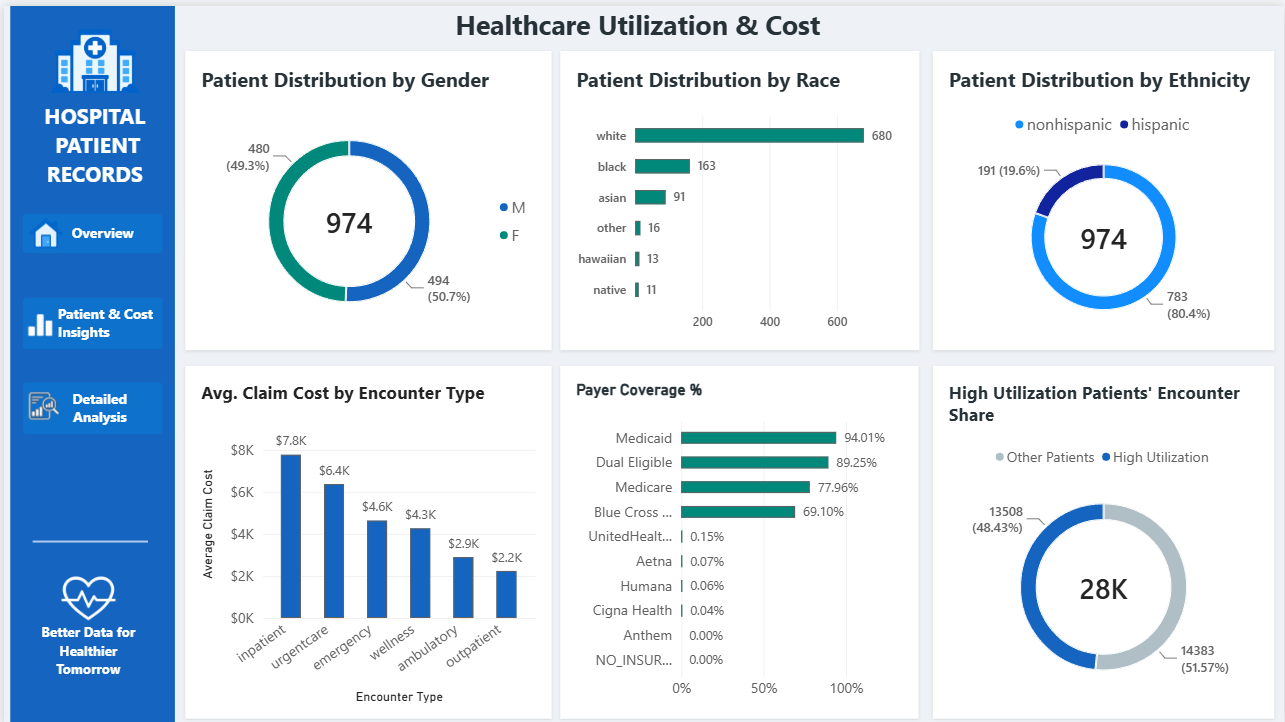

Layout of this report page (visuals, bound fields, positions):
{"tool":"powerbi","page":{"name":"Page 2","canvas":[1280,720],"ordinal":1},"visuals":[{"type":"clusteredBarChart","title":"Patient Distribution by Race","fields":{"Y":["CountNonNull(patients.Id)"],"Category":["patients.RACE"]},"box":[502.2,59,389.7,253.9],"z":0},{"type":"donutChart","title":"Patient Distribution by Gender","fields":{"Category":["patients_analysis.GENDER"],"Y":["CountNonNull(patients.Id)"]},"box":[135.8,59,366.4,253.9],"z":1000},{"type":"clusteredColumnChart","title":"Avg. Claim Cost by Encounter Type","fields":{"Y":["Avg(encounters.TOTAL_CLAIM_COST)"],"Category":["encounters.ENCOUNTERCLASS"]},"box":[135.8,312.9,325.2,323.8],"z":2000},{"type":"clusteredColumnChart","title":"Payer Coverage %","fields":{"Y":["Avg(payer_analysis.Payer_Coverage_Percentage)"],"Category":["payer_analysis.Payer Name"]},"box":[461.1,312.9,392.5,323.8],"z":3000},{"type":"donutChart","title":"High Utilization Patients'' Encounter Share","fields":{"Category":["high_utilization_analysis.Patient_Group"],"Y":["Sum(high_utilization_analysis.Number_of_Encounters)"]},"box":[853.5,312.9,404.8,323.8],"z":5000},{"type":"textbox","box":[377.4,0,369.1,45.3],"z":6000},{"type":"donutChart","title":"Patient Distribution by Ethnicity","fields":{"Y":["CountNonNull(patients.Id)"],"Category":["patients.ETHNICITY"]},"box":[891.9,59,366.4,253.9],"z":6001}]}

Visuals, with their boxes in screenshot pixels (x1, y1, x2, y2), scaled from the page's 1280x720 canvas onto the 1285x722 screenshot:
"Patient Distribution by Race" clusteredBarChart: <box>504,59,895,314</box>
"Patient Distribution by Gender" donutChart: <box>136,59,504,314</box>
"Avg. Claim Cost by Encounter Type" clusteredColumnChart: <box>136,314,463,638</box>
"Payer Coverage %" clusteredColumnChart: <box>463,314,857,638</box>
"High Utilization Patients'' Encounter Share" donutChart: <box>857,314,1263,638</box>
textbox: <box>379,0,749,45</box>
"Patient Distribution by Ethnicity" donutChart: <box>895,59,1263,314</box>
